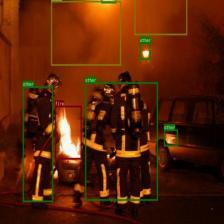fire: (54, 105, 82, 160)
smoke: (51, 1, 121, 65), (134, 0, 187, 35)
